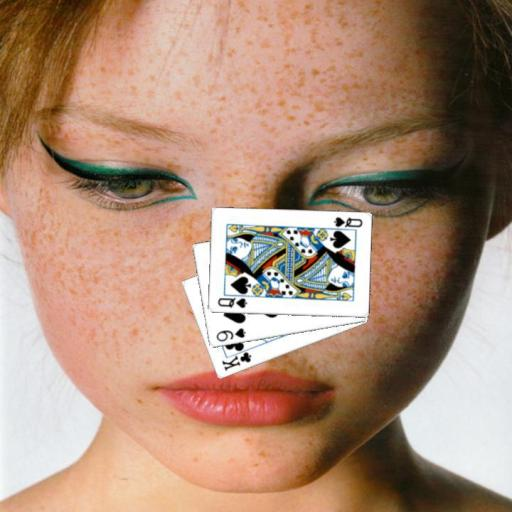9S: (213, 325, 247, 343)
KC: (218, 344, 253, 373)
QS: (215, 294, 248, 310), (331, 214, 363, 229)
